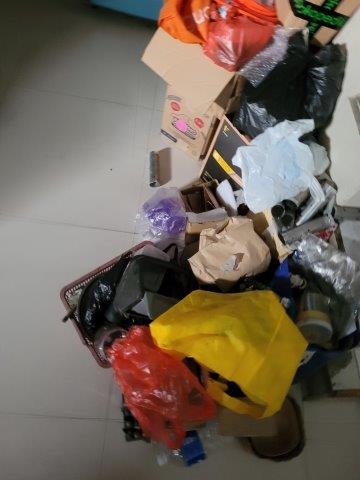botolplastik: (161, 423, 246, 467)
kardus: (145, 26, 234, 162)
plastik: (232, 120, 333, 213), (115, 335, 205, 438), (273, 41, 344, 121), (205, 11, 275, 64)
